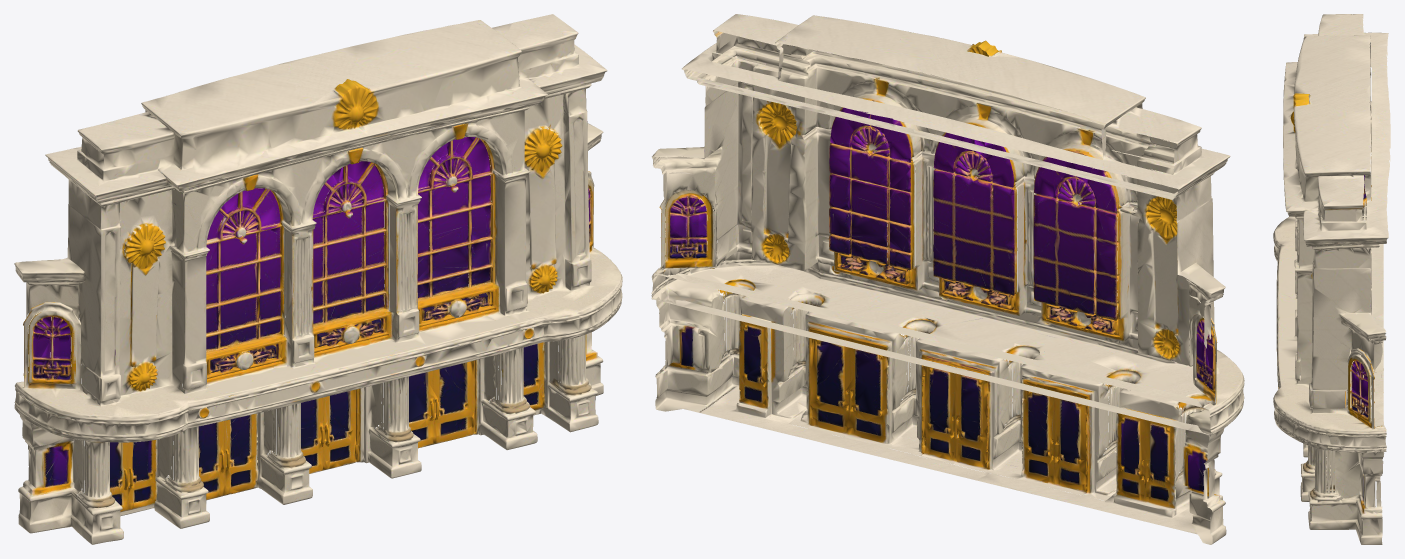
File: deco_bay.glb
3 renders of one model, left to right at view 1: azimuth 30°, elevation 25°; view 2: azimuth 150°, elevation 25°; view 3: azimuth 270°, elevation 25°, orthographic. The views are drawn at different scales.
Bounding box in the file's own units: 1.9 × 1.28 × 0.4054.
Materials: 1 (1 with a texture image).
